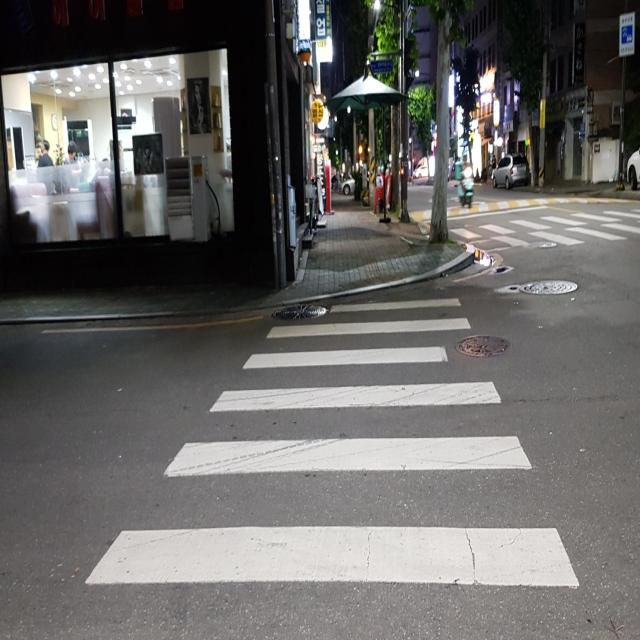횡단보도: (82, 294, 584, 593), (469, 217, 640, 258)
